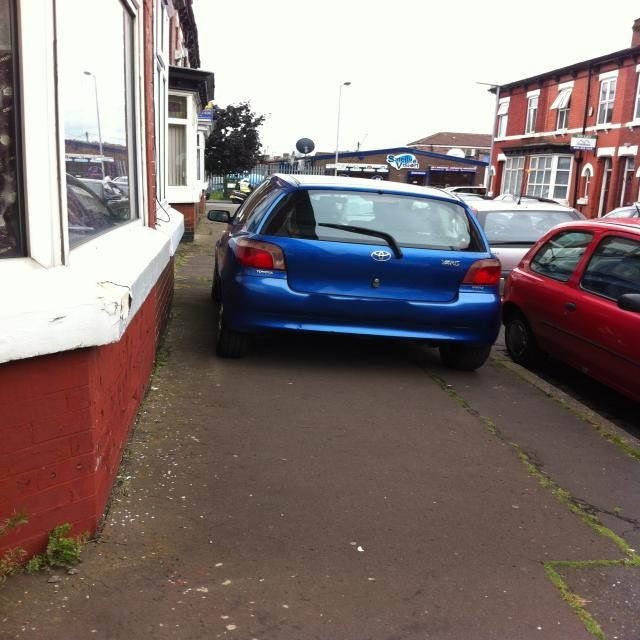car: (211, 174, 504, 369)
